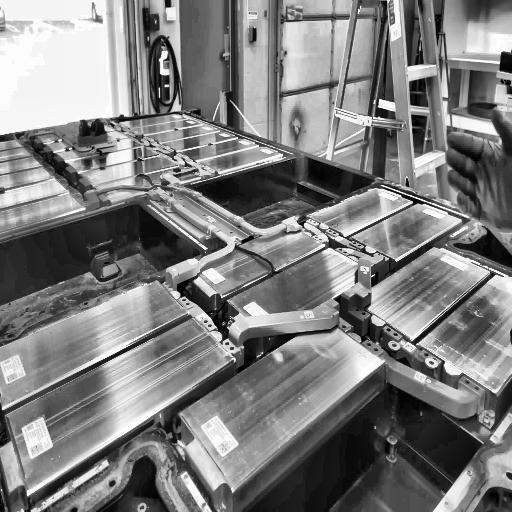battery_module: (4, 315, 235, 493), (179, 313, 385, 493), (1, 278, 188, 409), (227, 246, 374, 337), (363, 246, 491, 337), (419, 274, 511, 398), (188, 218, 326, 299), (344, 202, 463, 270), (309, 187, 413, 234)
busbar: (17, 112, 497, 428)
